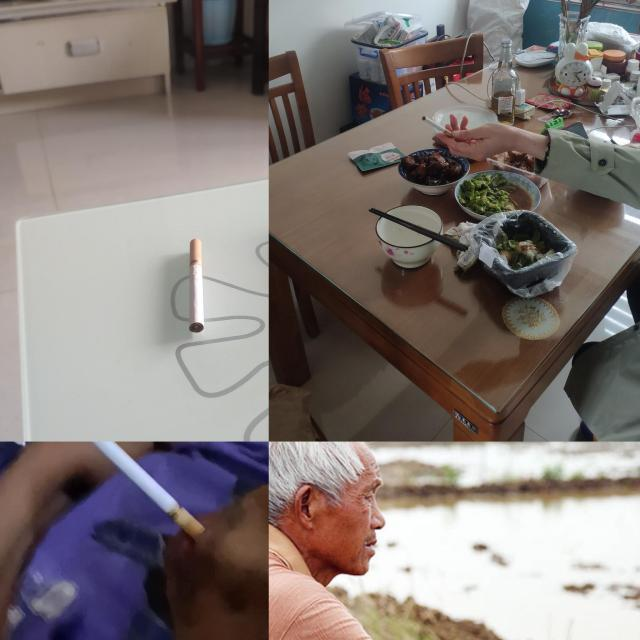cigarette: (88, 442, 207, 540), (188, 238, 206, 334), (422, 116, 454, 138)
